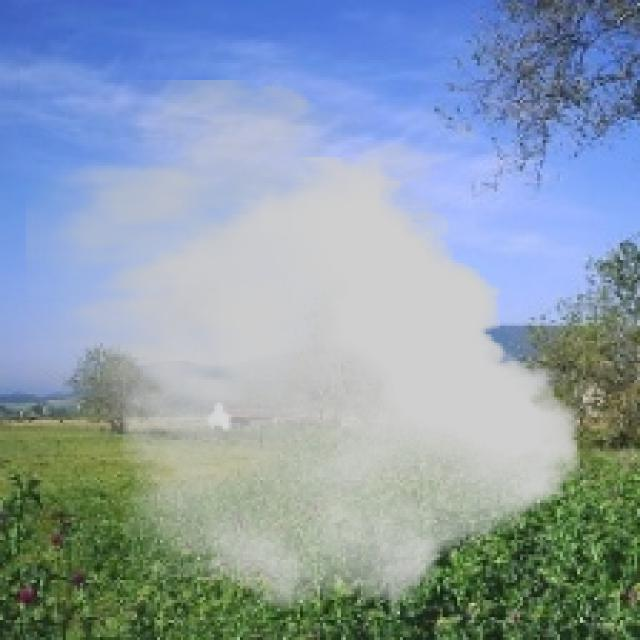smoke: (26, 80, 580, 611)
